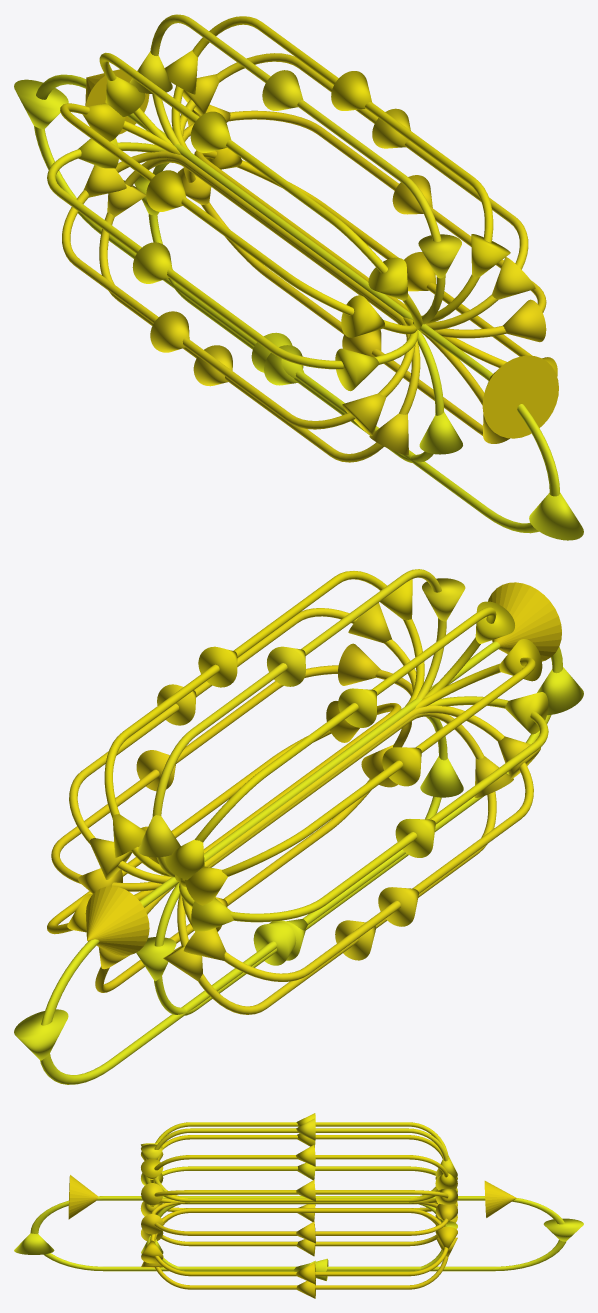
File: magneticFieldLinesForGltf.gltf
The picture shows the model from 3 angles, top to bottom: view 1: azimuth 30°, elevation 25°; view 2: azimuth 150°, elevation 25°; view 3: azimuth 270°, elevation 25°; orthographic projection. The views are drawn at different scales.
Visible parts, largest first — view 1: Cone.015, Cone.009, Cone.005, Cone.004, Cone.008, Cone.007, Cone.006, Cone.010, Cone.003, Cone.001, Cone.011, Cone.014 (+3 smaller); view 2: Cone.015, Cone.009, Cone.004, Cone.007, Cone.008, Cone.005, Cone.006, Cone.003, Cone.010, Cone.001, Cone.002, Cone.011 (+3 smaller); view 3: Cone.015, Cone.011, Cone.005, Cone.003, Cone.001, Cone.004, Cone.012, Cone.007, Cone.010, Cone.006, Cone.008, Cone.002 (+3 smaller).
Boxes of the visible parts, <box> form: Cone.015: <box>14,74,583,540</box>; Cone.009: <box>62,151,415,435</box>; Cone.005: <box>164,16,510,323</box>; Cone.004: <box>129,14,461,324</box>; Cone.008: <box>60,103,416,337</box>; Cone.007: <box>47,138,418,391</box>; Cone.006: <box>99,52,422,329</box>; Cone.010: <box>99,159,420,462</box>; Cone.003: <box>180,53,535,330</box>; Cone.001: <box>183,104,546,342</box>; Cone.011: <box>194,147,557,376</box>; Cone.014: <box>482,355,558,438</box>; Cone.015: <box>14,641,583,1084</box>; Cone.009: <box>182,705,540,981</box>; Cone.004: <box>138,569,465,877</box>; Cone.007: <box>179,692,548,931</box>; Cone.008: <box>180,639,542,905</box>; Cone.005: <box>104,571,424,876</box>; Cone.006: <box>165,601,514,882</box>; Cone.003: <box>69,602,416,883</box>; Cone.010: <box>163,713,513,1014</box>; Cone.001: <box>51,643,412,893</box>; Cone.002: <box>136,716,463,1015</box>; Cone.011: <box>47,701,401,934</box>; Cone.015: <box>14,1196,583,1280</box>; Cone.011: <box>141,1208,457,1284</box>; Cone.005: <box>141,1145,457,1202</box>; Cone.003: <box>141,1180,457,1205</box>; Cone.001: <box>141,1202,457,1243</box>; Cone.004: <box>141,1118,457,1196</box>; Cone.012: <box>141,1208,457,1298</box>; Cone.007: <box>141,1163,457,1203</box>; Cone.010: <box>141,1209,457,1256</box>; Cone.006: <box>141,1113,456,1190</box>; Cone.008: <box>141,1133,457,1195</box>; Cone.002: <box>141,1204,457,1271</box>.
Size of the model in its own units: 5.6 by 5.59 by 17.85.
